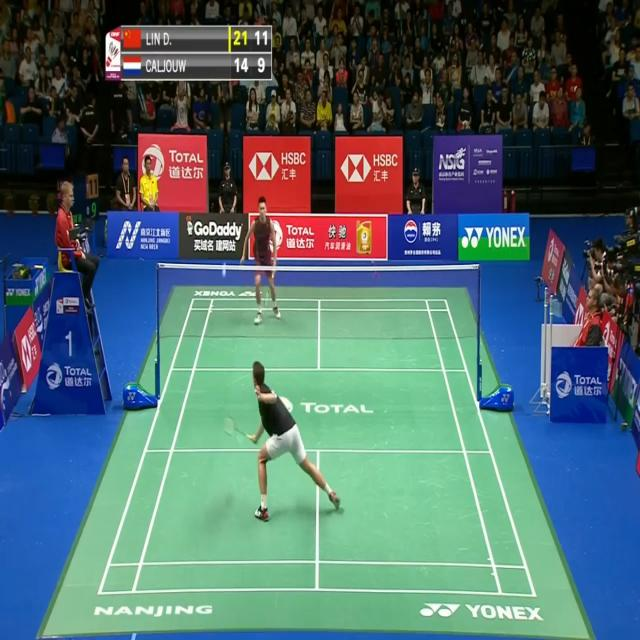Player1: (222, 348, 348, 532)
Player2: (235, 192, 285, 327)
